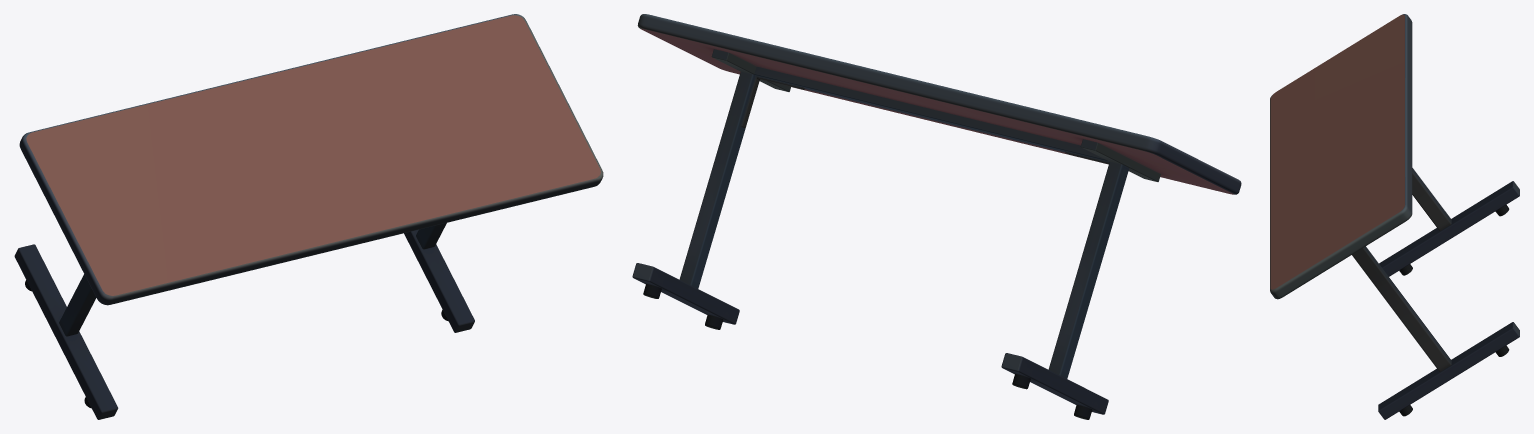
The model's file is table.glb.
3 renders of one model, left to right at view 1: azimuth 30°, elevation 25°; view 2: azimuth 150°, elevation 25°; view 3: azimuth 270°, elevation 25°, orthographic. The views are drawn at different scales.
Parts seen in each view (by area): view 1: node_id34; view 2: node_id34; view 3: node_id34.
Part boxes in pixels (x1=…): node_id34: x1=14, y1=14, x2=603, y2=419; node_id34: x1=632, y1=14, x2=1241, y2=419; node_id34: x1=1270, y1=14, x2=1519, y2=419.
Bounding box in the file's own units: 0.512 × 0.2837 × 0.2724.
Materials: 1 (1 with a texture image).
